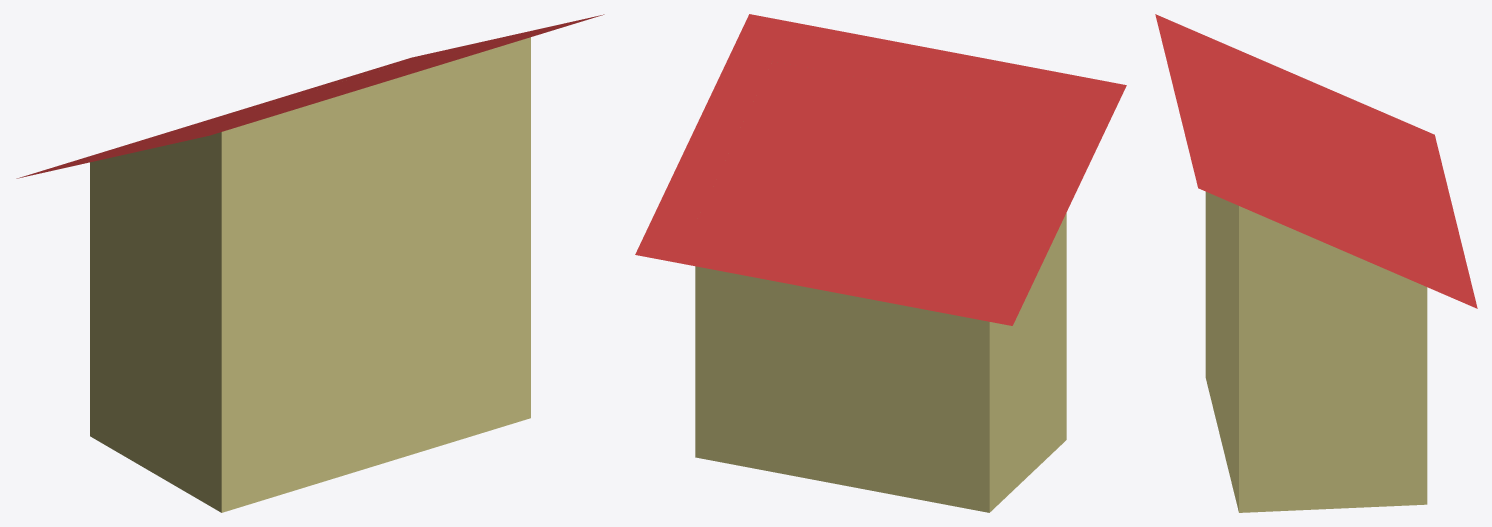
3 renders of one model, left to right at view 1: azimuth 30°, elevation 25°; view 2: azimuth 150°, elevation 25°; view 3: azimuth 270°, elevation 25°, orthographic. The views are drawn at different scales.
Bounding box in the file's own units: 9.63 × 7.04 × 8.33.
